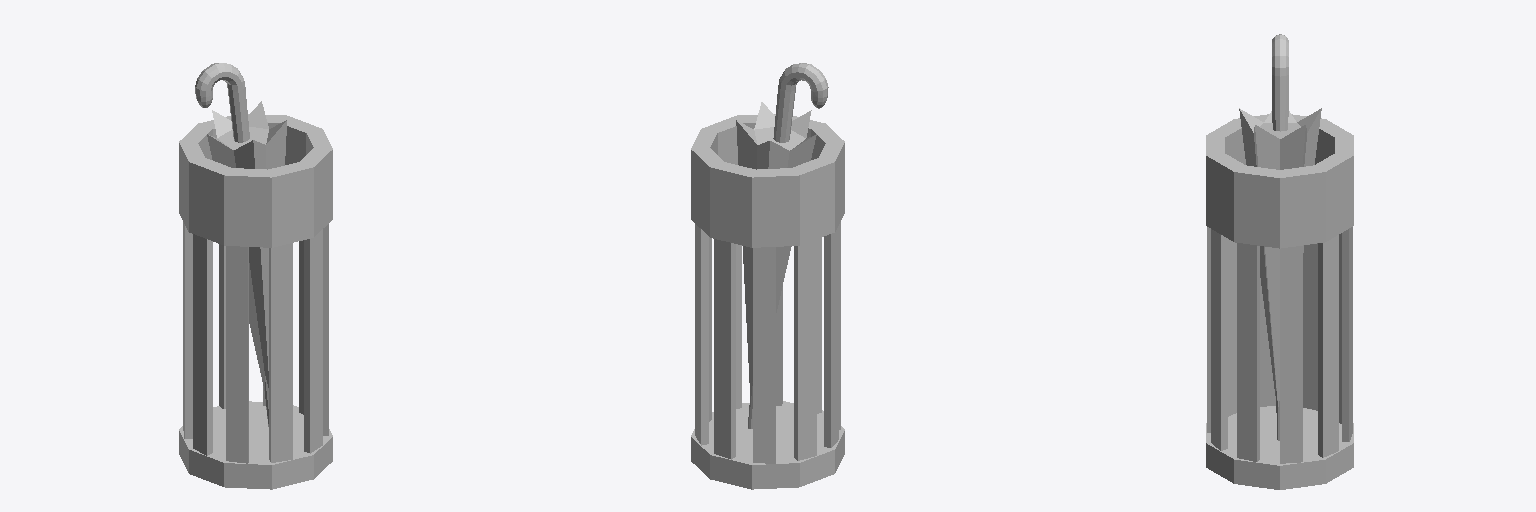
The model's file is umbrellastand.obj.
3 views of the same model, side by side, from view 1: azimuth 30°, elevation 25°; view 2: azimuth 150°, elevation 25°; view 3: azimuth 270°, elevation 25° (orthographic).
Parts seen in each view (by area): view 1: pPipe1, pCylinder29, pSphere5 polySurface19, pCylinder28 polySurface14, pCylinder28 polySurface13, pCylinder28 polySurface12, pCylinder28 polySurface15, polySurface18 pSphere5, pCylinder28 polySurface11, pCylinder28 polySurface16, pCylinder28 polySurface9, pCylinder28 polySurface17; view 2: pPipe1, pCylinder29, pCylinder28 polySurface10, pCylinder28 polySurface11, pSphere5 polySurface19, pCylinder28 polySurface9, pCylinder28 polySurface12, polySurface8 pCylinder28, polySurface18 pSphere5, pCylinder28 polySurface16, pCylinder28 polySurface14, pCylinder28 polySurface15 (+1 smaller); view 3: pPipe1, pCylinder29, pSphere5 polySurface19, pCylinder28 polySurface17, pCylinder28 polySurface16, polySurface8 pCylinder28, pCylinder28 polySurface15, pCylinder28 polySurface11, pCylinder28 polySurface9, polySurface18 pSphere5, pCylinder28 polySurface13, pCylinder28 polySurface12 (+2 smaller).
Part boxes in pixels (bbox=[...]): pPipe1: bbox=[179, 114, 332, 247]; pCylinder29: bbox=[179, 401, 332, 489]; pSphere5 polySurface19: bbox=[207, 101, 286, 390]; pCylinder28 polySurface14: bbox=[269, 243, 292, 462]; pCylinder28 polySurface13: bbox=[226, 246, 248, 463]; pCylinder28 polySurface12: bbox=[193, 234, 212, 455]; pCylinder28 polySurface15: bbox=[304, 229, 322, 453]; polySurface18 pSphere5: bbox=[195, 63, 268, 426]; pCylinder28 polySurface11: bbox=[183, 222, 192, 438]; pCylinder28 polySurface16: bbox=[323, 224, 328, 435]; pCylinder28 polySurface9: bbox=[219, 244, 225, 408]; pCylinder28 polySurface17: bbox=[299, 240, 303, 414]; pPipe1: bbox=[691, 114, 844, 247]; pCylinder29: bbox=[691, 401, 844, 489]; pCylinder28 polySurface10: bbox=[753, 247, 775, 463]; pCylinder28 polySurface11: bbox=[794, 239, 816, 460]; pSphere5 polySurface19: bbox=[736, 102, 816, 394]; pCylinder28 polySurface9: bbox=[714, 239, 735, 459]; pCylinder28 polySurface12: bbox=[824, 226, 838, 447]; polySurface8 pCylinder28: bbox=[695, 224, 708, 445]; polySurface18 pSphere5: bbox=[748, 63, 828, 428]; pCylinder28 polySurface16: bbox=[736, 244, 741, 408]; pCylinder28 polySurface14: bbox=[817, 237, 821, 413]; pCylinder28 polySurface15: bbox=[776, 287, 782, 405]; pPipe1: bbox=[1206, 114, 1353, 248]; pCylinder29: bbox=[1206, 406, 1353, 489]; pSphere5 polySurface19: bbox=[1239, 108, 1321, 406]; pCylinder28 polySurface17: bbox=[1280, 246, 1302, 463]; pCylinder28 polySurface16: bbox=[1237, 243, 1259, 461]; polySurface8 pCylinder28: bbox=[1318, 235, 1338, 457]; pCylinder28 polySurface15: bbox=[1211, 229, 1227, 450]; pCylinder28 polySurface11: bbox=[1303, 243, 1317, 410]; pCylinder28 polySurface9: bbox=[1342, 227, 1352, 441]; polySurface18 pSphere5: bbox=[1272, 34, 1288, 440]; pCylinder28 polySurface13: bbox=[1228, 239, 1236, 416]; pCylinder28 polySurface12: bbox=[1260, 278, 1275, 406].
Size of the model in its own units: 2 by 5.73 by 1.9.